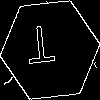T: (25, 25, 57, 73)
